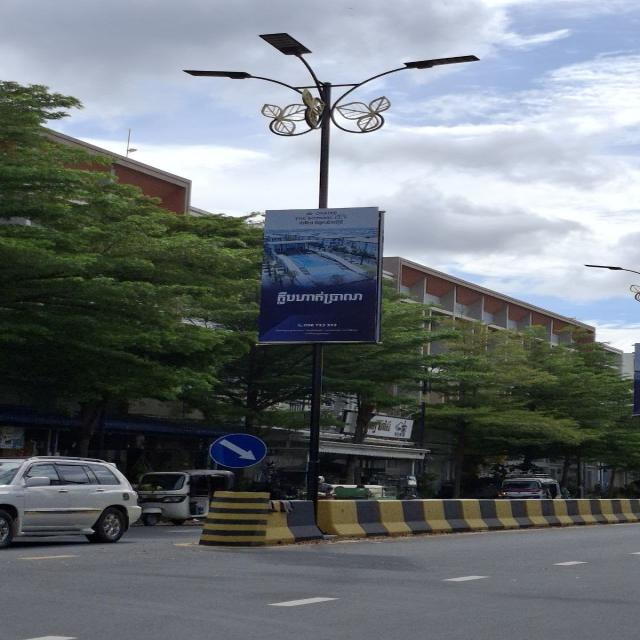Yolov11_80vkh: (268, 284, 376, 310)
